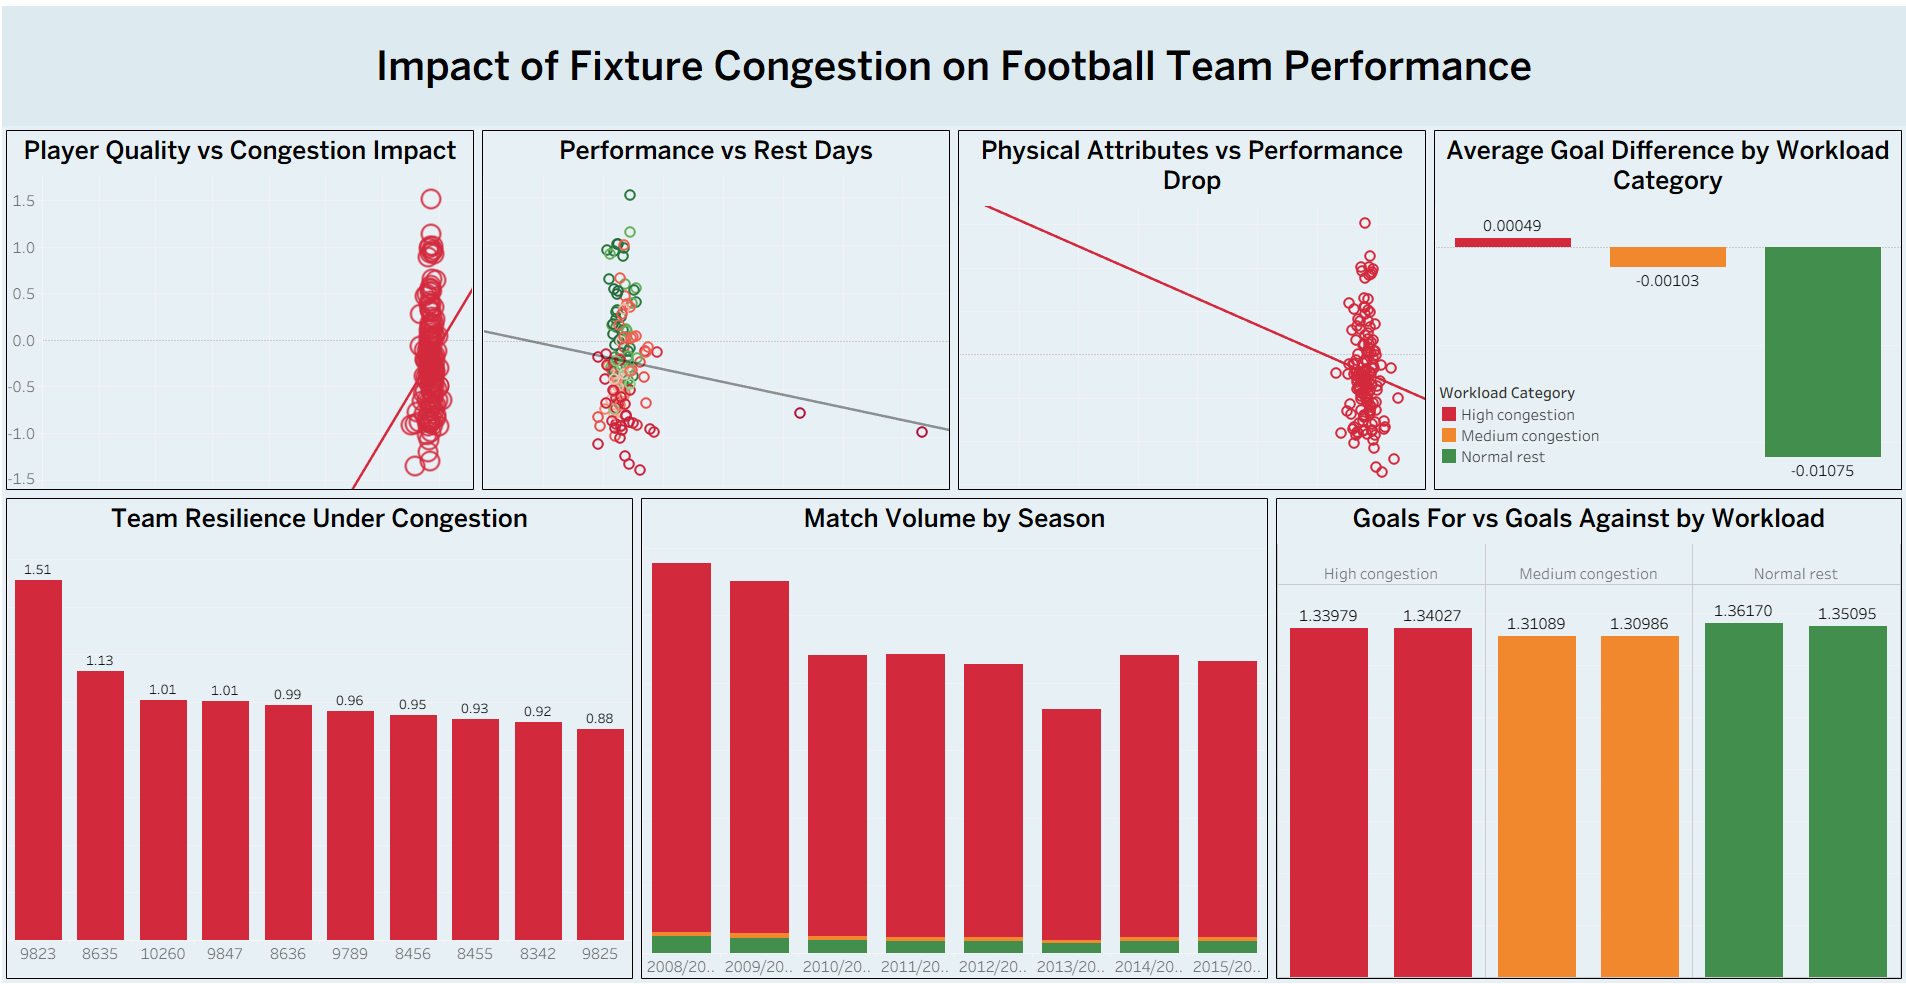

The dashboard page shown, as its layout file describes it:
{"tool":"tableau","page":{"name":"Dashboard 1","canvas":[1000,1000],"units":"permille","ordinal":0},"visuals":[{"type":"text","box":[4.8,9.7,990.3,120.9]},{"type":"worksheet","title":"Sheet 4","mark":"Automatic","rows":["goal_diff"],"cols":["overall_rating"],"box":[4.8,130.6,248,368.8]},{"type":"worksheet","title":"Sheet 6","mark":"Automatic","rows":["goal_diff"],"cols":["rest_days"],"box":[252.9,130.6,247.4,368.8]},{"type":"worksheet","title":"Sheet 5","mark":"Automatic","rows":["goal_diff"],"cols":["sprint_speed"],"box":[500.3,130.6,247.4,368.8]},{"type":"worksheet","title":"Sheet 1","mark":"Automatic","rows":["goal_diff"],"cols":["workload_category"],"box":[747.7,130.6,247.4,368.8]},{"type":"legend","title":"Sheet 1","param":"[federated.0qselt210mwvzv1ftaglo1qk992m].[none:workload_category:nk]","box":[752.6,386.9,100.2,102.8]},{"type":"worksheet","title":"Sheet 3","mark":"Automatic","rows":["goal_diff"],"cols":["team_id"],"box":[4.8,499.4,330.1,490.9]},{"type":"worksheet","title":"Sheet 7","mark":"Automatic","rows":["team_match_workload_performance.csv_7ACF6EE4AE594C59A2BBEE48"],"cols":["season"],"box":[334.9,499.4,330.1,490.9]},{"type":"worksheet","title":"Sheet 2","mark":"Automatic","cols":["workload_category"],"box":[665.1,499.4,330.1,490.9]}]}

Visuals, with their boxes on the dashboard's canvas, which has no fixed pixel size, in thousandths of its width and height (x1, y1, x2, y2). These are canvas units, not pixel positions in the 1906x984 screenshot, which may show the page scaled, cropped or inside an application window:
text: l=5, t=10, r=995, b=131
"Sheet 4" worksheet: l=5, t=131, r=253, b=499
"Sheet 6" worksheet: l=253, t=131, r=500, b=499
"Sheet 5" worksheet: l=500, t=131, r=748, b=499
"Sheet 1" worksheet: l=748, t=131, r=995, b=499
"Sheet 1" legend: l=753, t=387, r=853, b=490
"Sheet 3" worksheet: l=5, t=499, r=335, b=990
"Sheet 7" worksheet: l=335, t=499, r=665, b=990
"Sheet 2" worksheet: l=665, t=499, r=995, b=990
